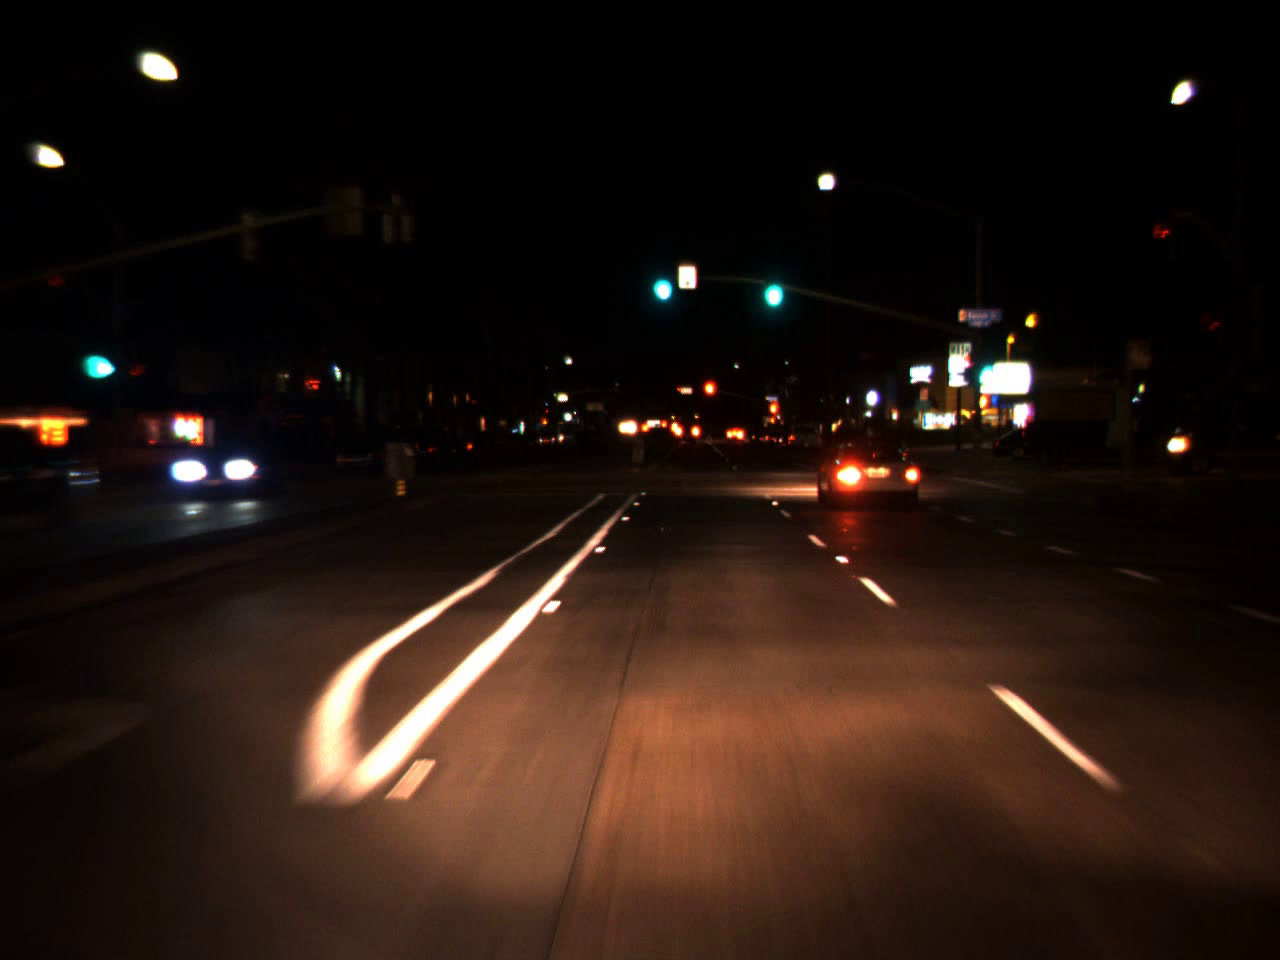go: (75, 323, 116, 389), (758, 253, 786, 316), (645, 255, 675, 306), (975, 345, 996, 390)
stop: (702, 379, 718, 411), (769, 399, 779, 431)
